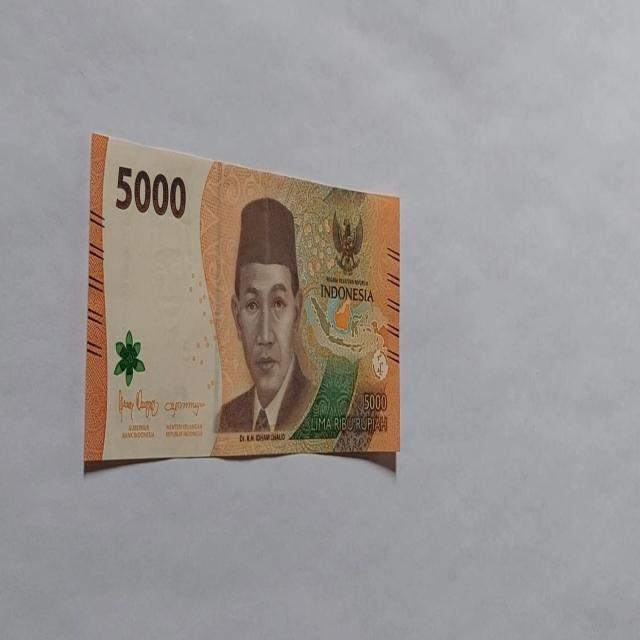lima ribu rupiah: (83, 131, 401, 473), (212, 196, 318, 440)
